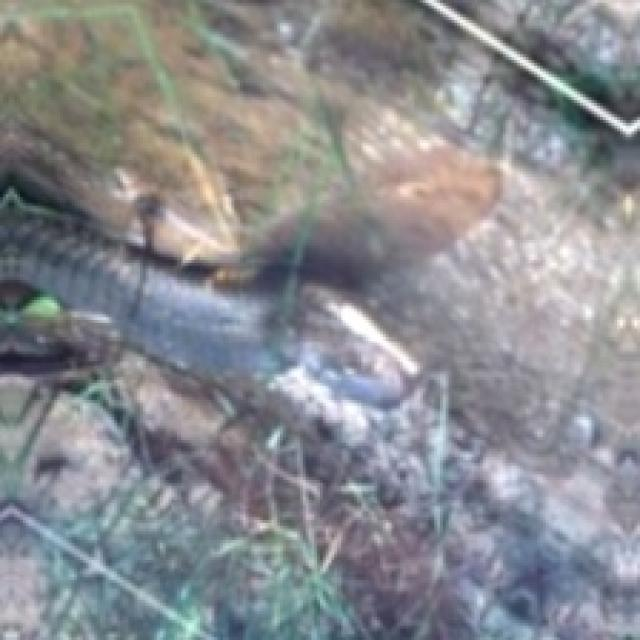king cobra: (0, 191, 420, 406)
